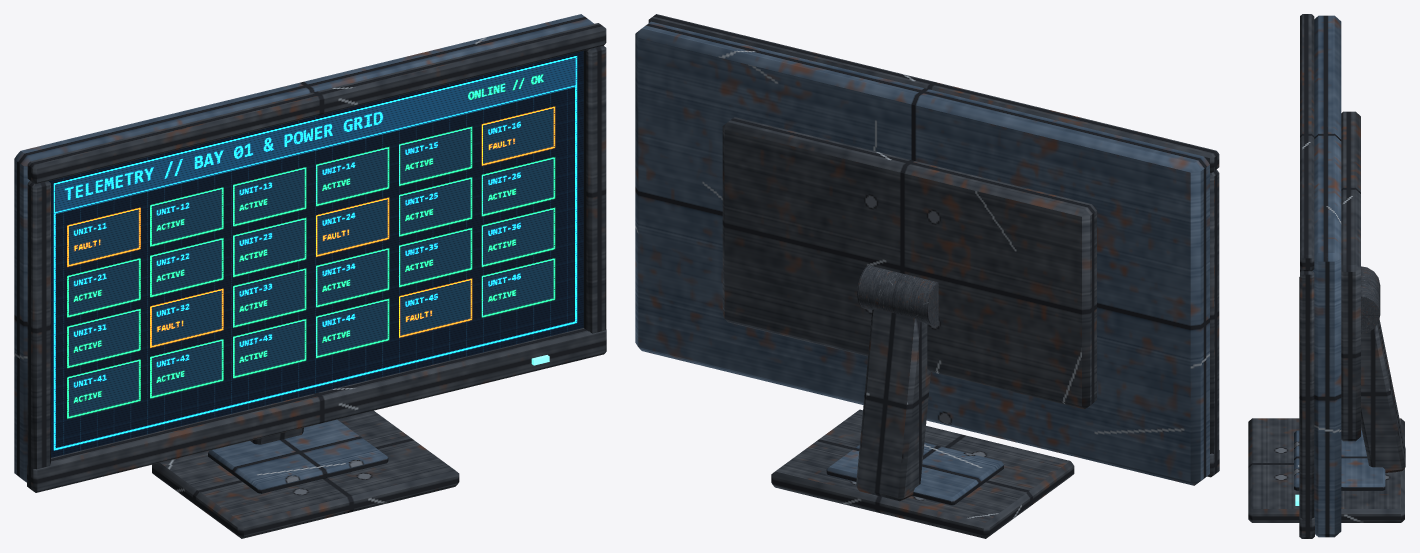
Rendered from diag-pc-display-free3d.glb.
3 renders of one model, left to right at view 1: azimuth 30°, elevation 25°; view 2: azimuth 150°, elevation 25°; view 3: azimuth 270°, elevation 25°, orthographic. The views are drawn at different scales.
Parts seen in each view (by area): view 1: pantalla_escritorio_diag; view 2: pantalla_escritorio_diag; view 3: pantalla_escritorio_diag.
Boxes of the visible parts, bbox=[...] form: pantalla_escritorio_diag: bbox=[14, 14, 606, 538]; pantalla_escritorio_diag: bbox=[635, 14, 1219, 538]; pantalla_escritorio_diag: bbox=[1248, 14, 1405, 538].
Bounding box in the file's own units: 0.88 × 0.58 × 0.241.
Materials: 4 (3 with a texture image).
